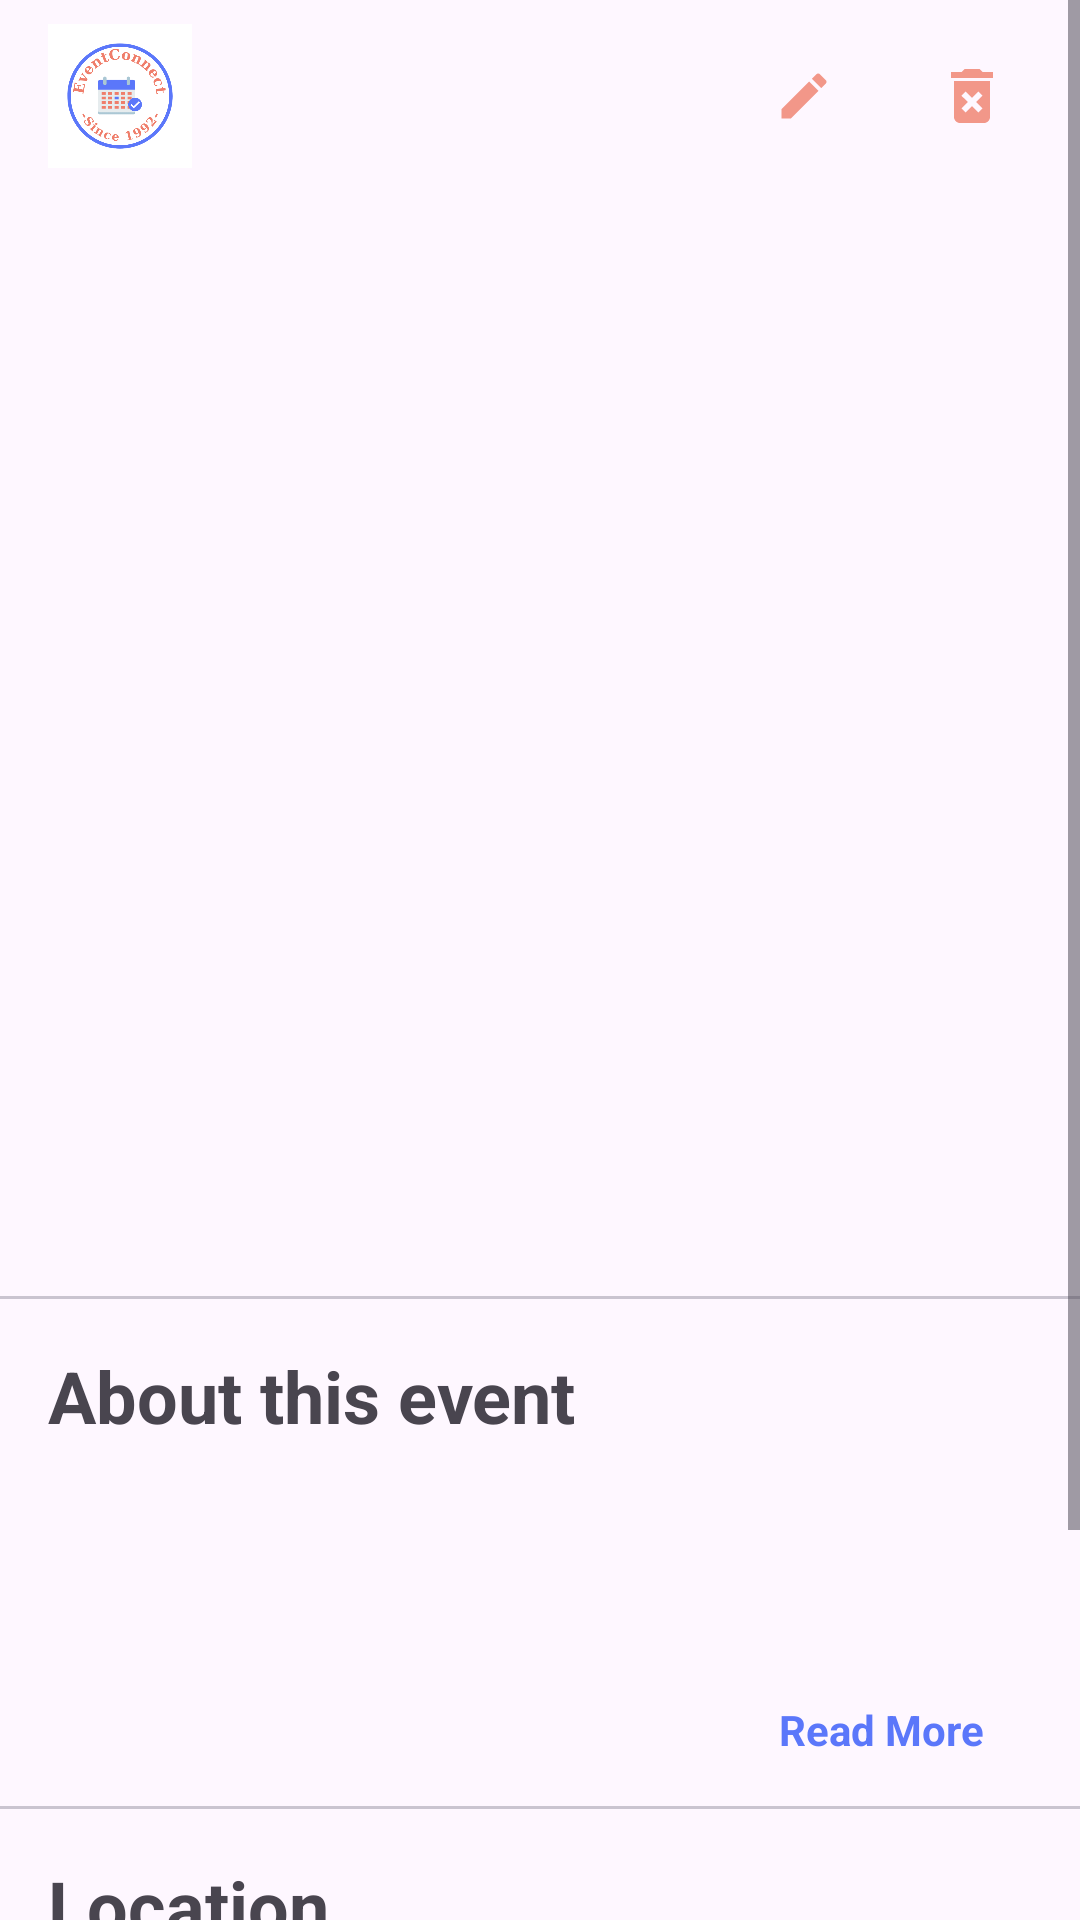

Named icons in this screenshot (1080*1920) and their centers, (x=x, y=y):
delete: (x=972, y=96)
edit: (x=804, y=96)
